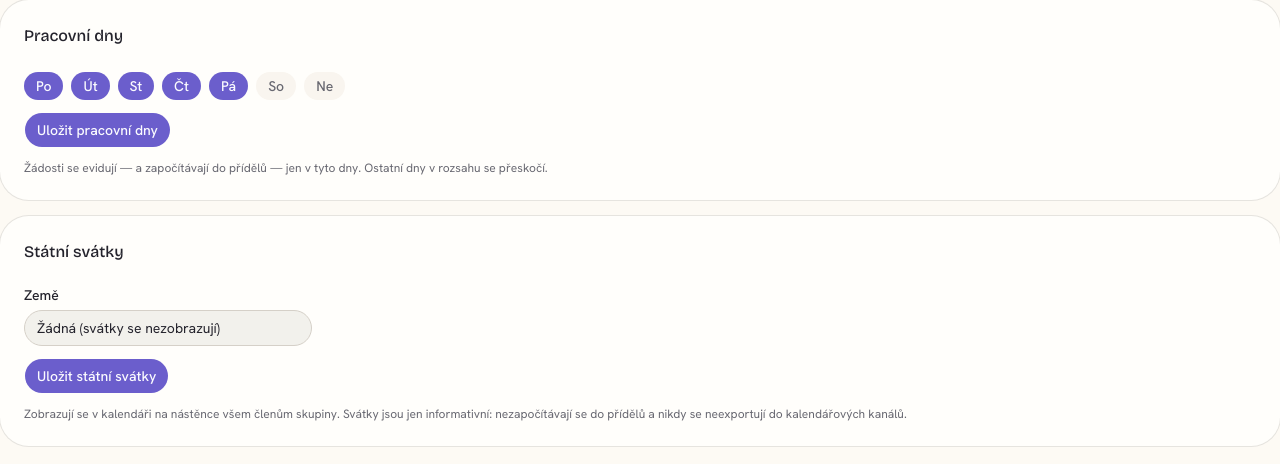
group detail saves refused by a plan limit › explains a refused holiday country save in the user's language
This screenshot has width=1280, height=464.
Click the button "Uložit státní svátky": point(97, 376) top-left (24, 358), bottom-right (169, 394)
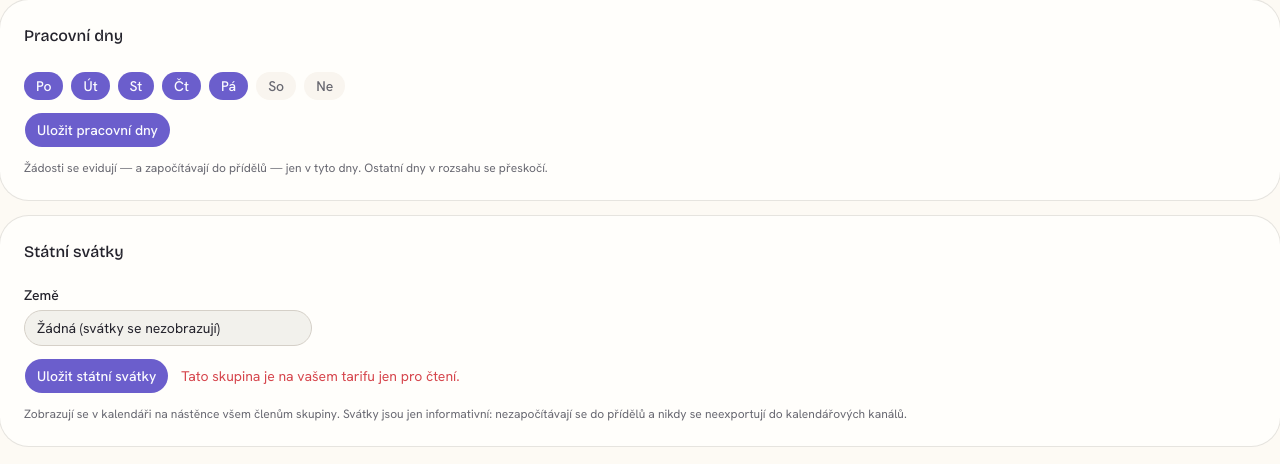
expect the text "Tato skupina je na vašem tarifu jen pro čtení." is shown: met, box top-left (181, 366), bottom-right (460, 386)
